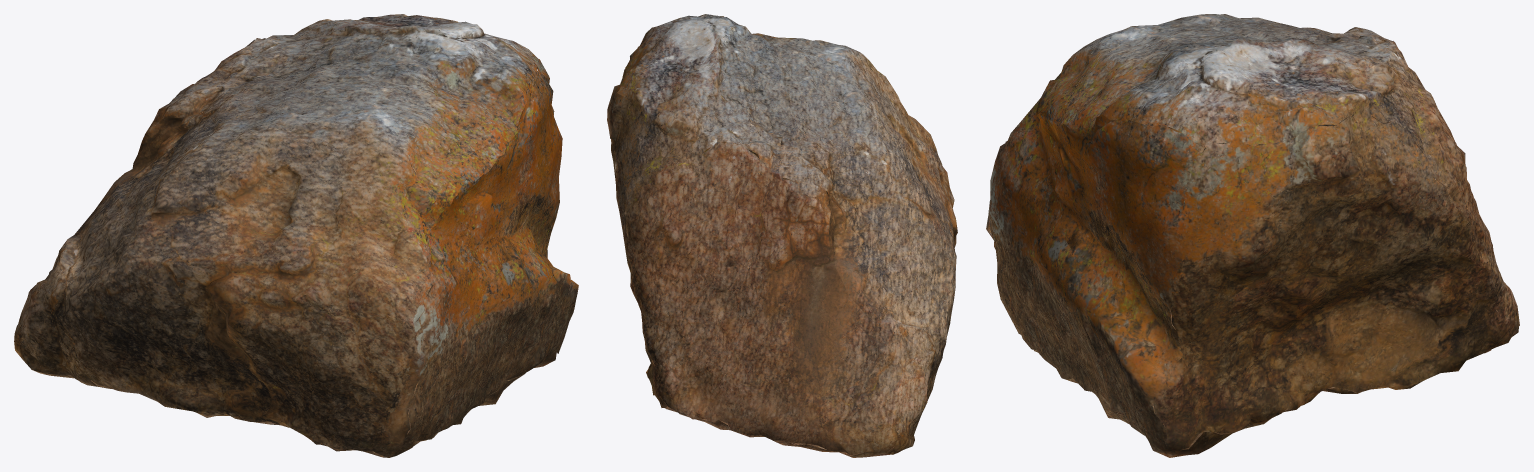
Rendered from kaya_buyuk.gltf.
3 renders of one model, left to right at view 1: azimuth 30°, elevation 25°; view 2: azimuth 150°, elevation 25°; view 3: azimuth 270°, elevation 25°, orthographic. The views are drawn at different scales.
Visible parts, largest first — view 1: kaya_buyuk; view 2: kaya_buyuk; view 3: kaya_buyuk.
Boxes of the visible parts, x1=… form: kaya_buyuk: x1=14, y1=14, x2=578, y2=457; kaya_buyuk: x1=607, y1=14, x2=957, y2=457; kaya_buyuk: x1=986, y1=14, x2=1519, y2=457.
Size of what is drawn, in the model's own units: 2.52 by 1.9 by 2.5.
Materials: 1 (1 with a texture image).
